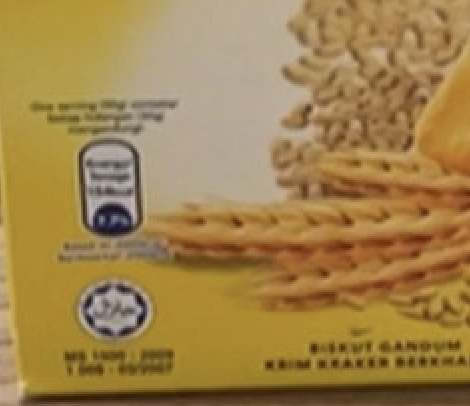halal: (91, 296, 140, 327)
